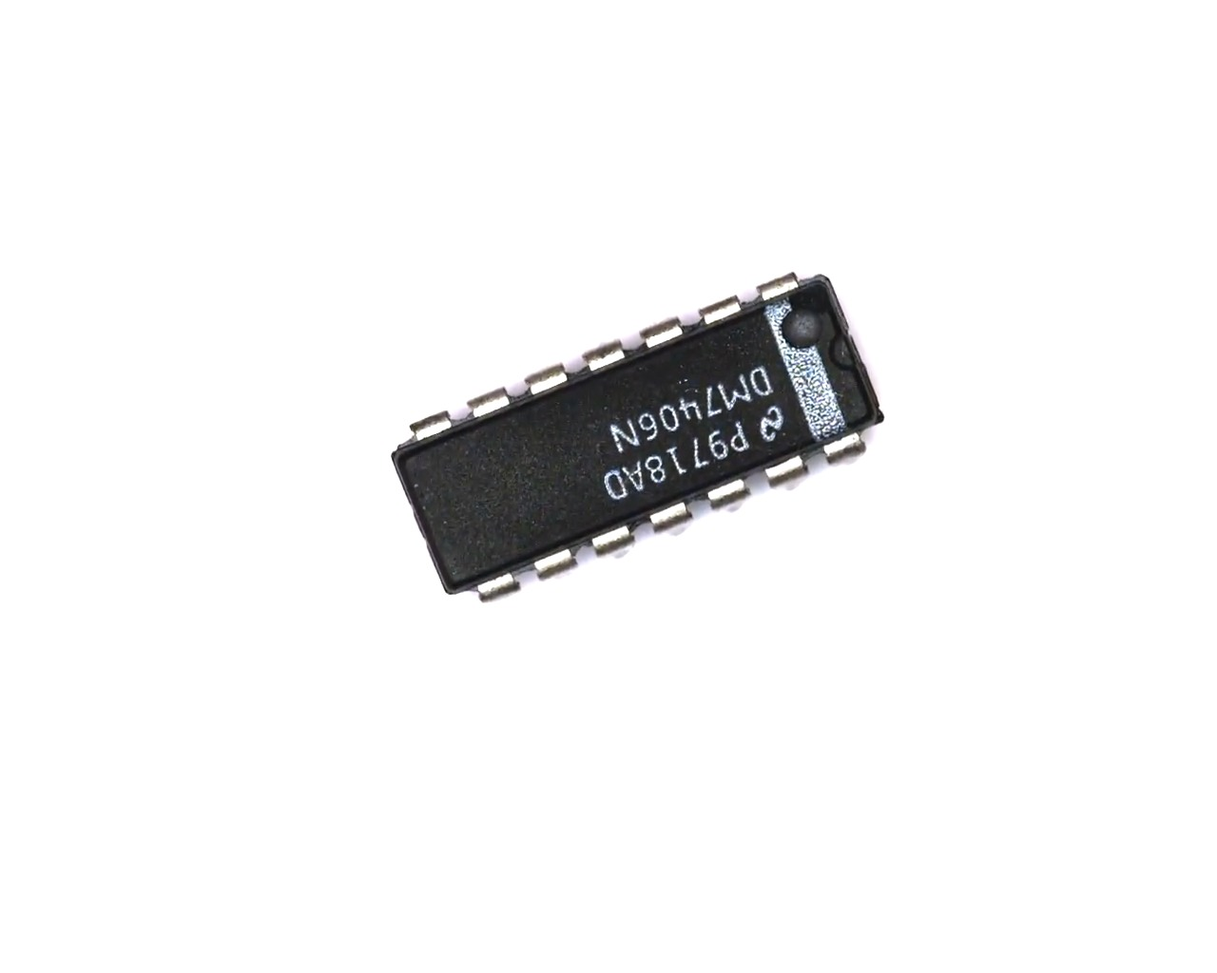IC: (369, 240, 917, 628)
notch: (826, 324, 867, 376)
